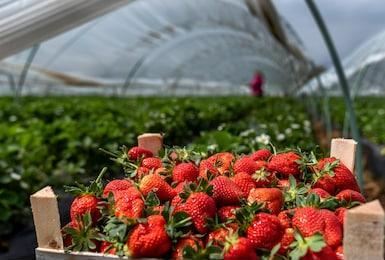Fresa: (126, 212, 176, 258), (245, 211, 287, 254), (182, 187, 218, 236), (67, 189, 105, 235), (290, 203, 328, 241), (137, 171, 180, 204), (206, 173, 245, 206), (266, 150, 307, 179)
